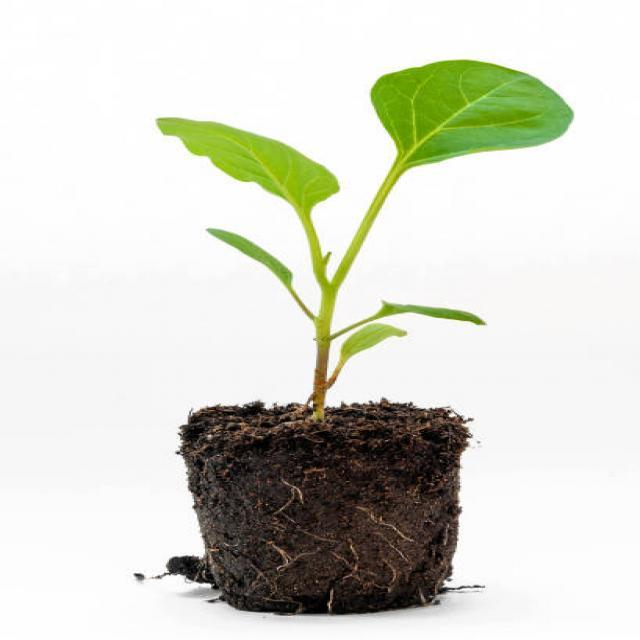brinjal: (156, 62, 571, 421)
